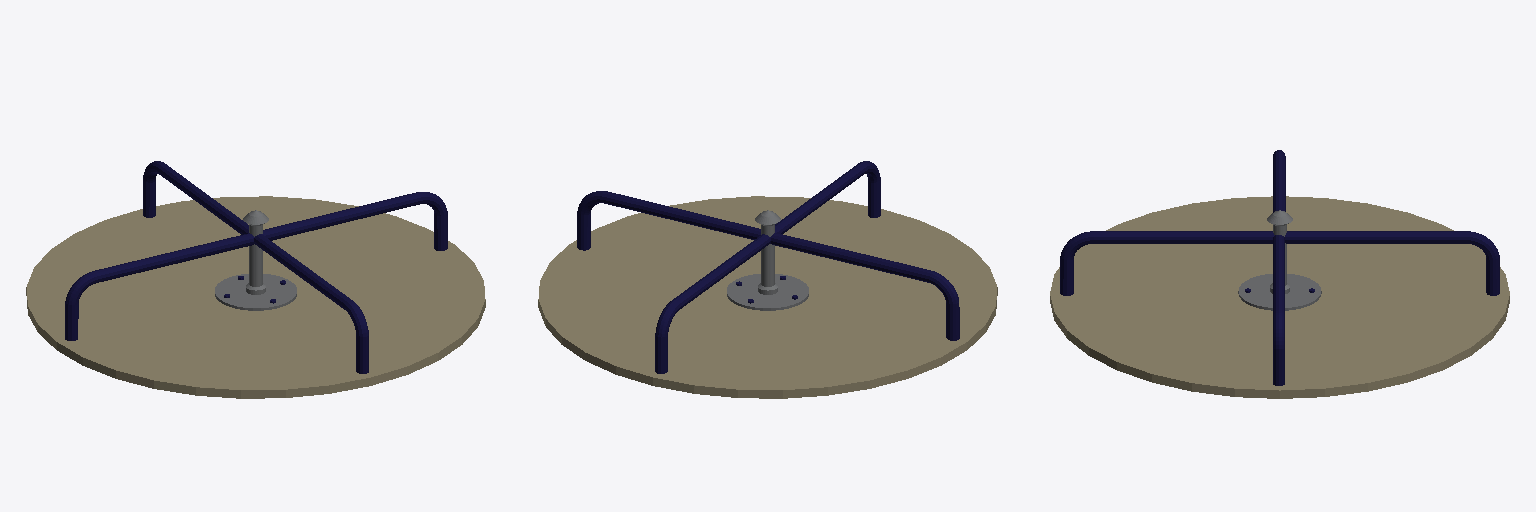
Rendered from rodaroda.obj.
The picture shows the model from 3 angles: view 1: azimuth 30°, elevation 25°; view 2: azimuth 150°, elevation 25°; view 3: azimuth 270°, elevation 25°; orthographic projection.
Parts seen in each view (by area): view 1: Circle.001_Circle.000, Circle_Circle.001, Torus.003_Torus, Torus.002_Torus, Torus, Torus.001_Torus; view 2: Circle.001_Circle.000, Circle_Circle.001, Torus.003_Torus, Torus.002_Torus, Torus.001_Torus, Torus; view 3: Circle.001_Circle.000, Torus.001_Torus, Torus, Circle_Circle.001, Torus.002_Torus, Torus.003_Torus.
Boxes of the visible parts, <box> form: Circle.001_Circle.000: <box>26,196,485,398</box>; Circle_Circle.001: <box>215,210,296,310</box>; Torus.003_Torus: <box>65,233,254,340</box>; Torus.002_Torus: <box>262,192,447,250</box>; Torus: <box>254,234,368,373</box>; Torus.001_Torus: <box>143,161,248,234</box>; Circle.001_Circle.000: <box>538,196,997,398</box>; Circle_Circle.001: <box>727,210,808,310</box>; Torus.003_Torus: <box>770,233,959,340</box>; Torus.002_Torus: <box>577,191,760,250</box>; Torus.001_Torus: <box>655,234,770,373</box>; Torus: <box>775,161,880,233</box>; Circle.001_Circle.000: <box>1050,196,1509,398</box>; Torus.001_Torus: <box>1285,231,1499,295</box>; Torus: <box>1060,231,1274,295</box>; Circle_Circle.001: <box>1238,210,1321,310</box>; Torus.002_Torus: <box>1273,235,1284,385</box>; Torus.003_Torus: <box>1273,150,1285,212</box>.
Bounding box in the file's own units: 8.58 × 1.89 × 8.58.